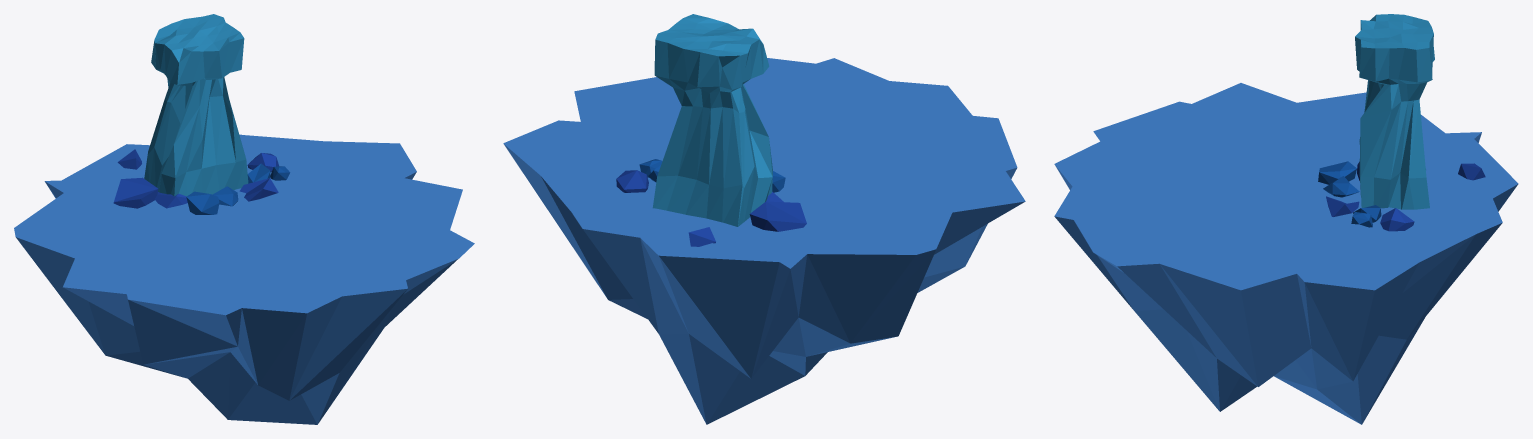
File: voyager_base.obj
The picture shows the model from 3 angles, left to right: view 1: azimuth 30°, elevation 25°; view 2: azimuth 150°, elevation 25°; view 3: azimuth 270°, elevation 25°; orthographic projection. The views are drawn at different scales.
Visible parts, largest first — view 1: Cone, Cube_Cube.001, Icosphere, Icosphere.006_Icosphere.009; view 2: Cone, Cube_Cube.001, Icosphere, Icosphere.006_Icosphere.009; view 3: Cone, Cube_Cube.001, Icosphere.006_Icosphere.009, Icosphere.
Boxes of the visible parts, box(x1,y1,x2,y2) form: Cone: box(14, 134, 474, 424); Cube_Cube.001: box(144, 14, 248, 196); Icosphere: box(113, 149, 278, 208); Icosphere.006_Icosphere.009: box(186, 163, 290, 214); Cone: box(503, 58, 1025, 424); Cube_Cube.001: box(652, 14, 772, 226); Icosphere: box(616, 170, 806, 246); Icosphere.006_Icosphere.009: box(639, 159, 785, 192); Cone: box(1054, 83, 1518, 424); Cube_Cube.001: box(1355, 14, 1434, 209); Icosphere.006_Icosphere.009: box(1318, 161, 1381, 227); Icosphere: box(1326, 161, 1485, 231).
Size of the model in its own units: 1.97 by 1.7 by 1.86.
